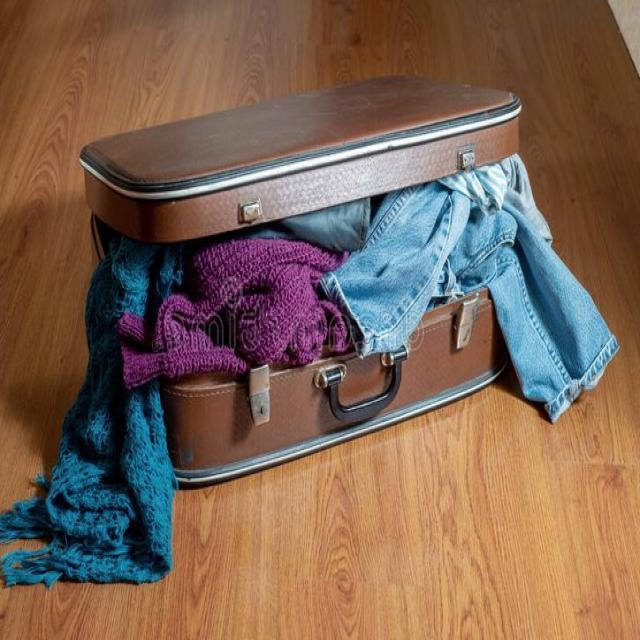clothes: (6, 164, 629, 594)
